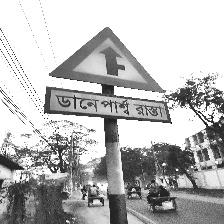Side-road-right: (44, 26, 171, 124)
